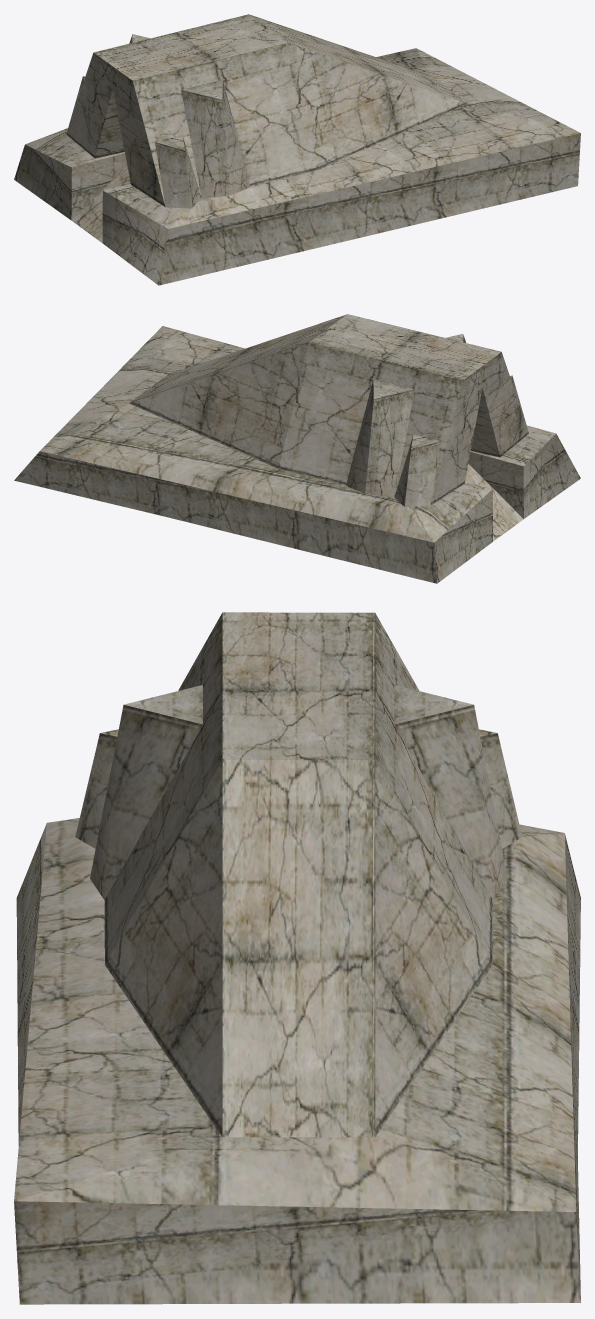
Rendered from thm_yavn_jedi_enclave_light_r0_mesh_r0_l3.fbx.
3 renders of one model, top to bottom at view 1: azimuth 30°, elevation 25°; view 2: azimuth 150°, elevation 25°; view 3: azimuth 270°, elevation 25°, orthographic. The views are drawn at different scales.
Parts seen in each view (by area): view 1: mesh_node; view 2: mesh_node; view 3: mesh_node.
Part boxes in pixels (left/top/right/bottom): mesh_node: left=14, top=14, right=580, bottom=285; mesh_node: left=14, top=314, right=580, bottom=583; mesh_node: left=14, top=612, right=580, bottom=1304.
Bounding box in the file's own units: 16.37 × 5.99 × 9.68.
